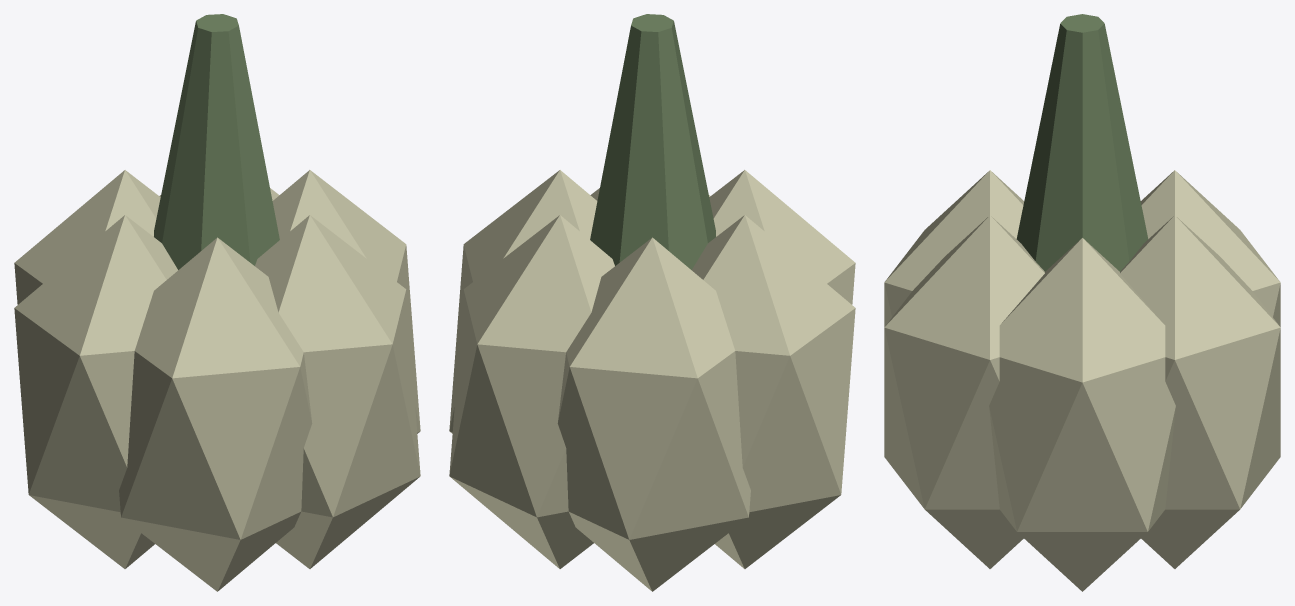
Rendered from SH10_Garlic.fbx.
3 views of the same model, side by side, from view 1: azimuth 30°, elevation 25°; view 2: azimuth 150°, elevation 25°; view 3: azimuth 270°, elevation 25° (orthographic).
Visible parts, largest first — view 1: SH10_Garlic; view 2: SH10_Garlic; view 3: SH10_Garlic.
Part boxes in pixels (box(x1,y1,x2,y2)): SH10_Garlic: box(14, 14, 420, 591); SH10_Garlic: box(449, 14, 855, 591); SH10_Garlic: box(884, 14, 1280, 591).
Size of the model in its own units: 49.04 by 65 by 44.6.
